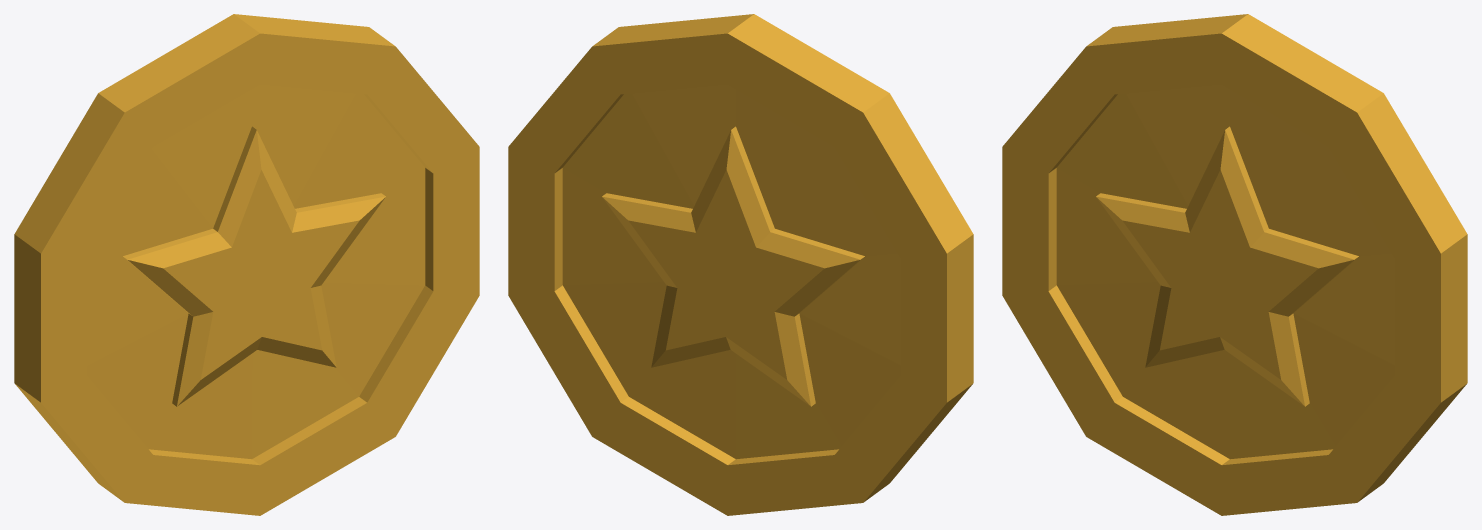
File: GoldCoin_001.fbx
The picture shows the model from 3 angles, left to right: view 1: azimuth 30°, elevation 25°; view 2: azimuth 150°, elevation 25°; view 3: azimuth 330°, elevation 25°; orthographic projection.
Visible parts, largest first — view 1: Circle.001; view 2: Circle.001; view 3: Circle.001.
Boxes of the visible parts, x1=… form: Circle.001: x1=14, y1=14, x2=479, y2=515; Circle.001: x1=508, y1=14, x2=973, y2=515; Circle.001: x1=1002, y1=14, x2=1467, y2=515.
Bounding box in the file's own units: 95.11 × 100 × 11.27.
